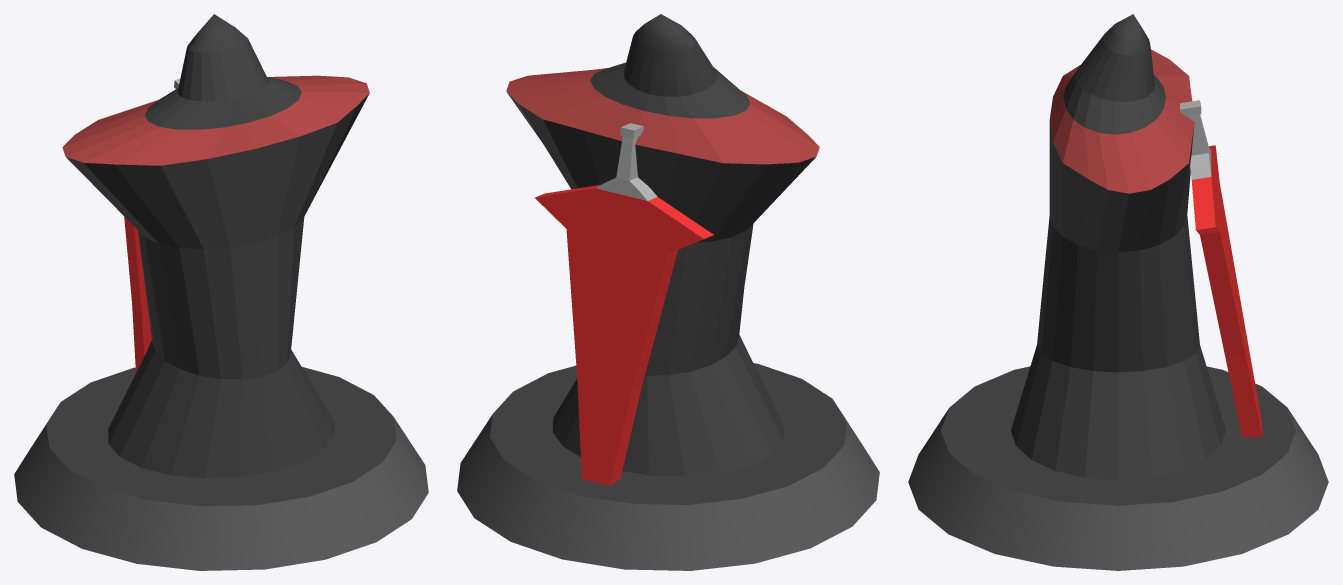
Rendered from Sacrifice.fbx.
3 renders of one model, left to right at view 1: azimuth 30°, elevation 25°; view 2: azimuth 150°, elevation 25°; view 3: azimuth 270°, elevation 25°, orthographic.
Visible parts, largest first — view 1: pCube2; view 2: pCube2; view 3: pCube2.
Part boxes in pixels (x1,y1,x2,y2): pCube2: (14, 14, 428, 570); pCube2: (457, 14, 879, 570); pCube2: (908, 14, 1328, 570).
Bounding box in the file's own units: 6.1 × 7.5 × 6.1.
